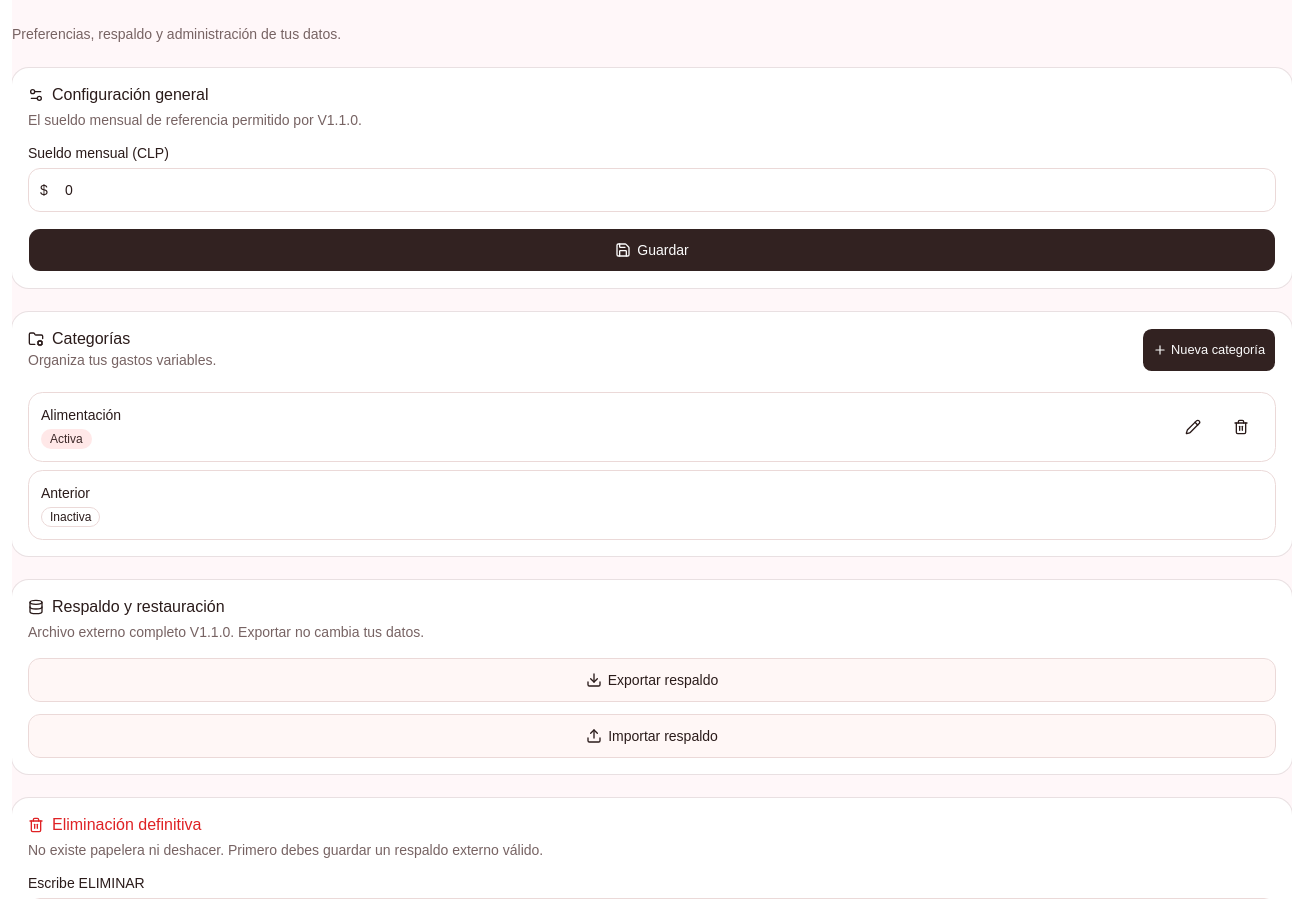
it: SettingsPage › keeps zero visible and normalizes an empty salary safely
Clear the field labelled "Sueldo mensual (CLP)" at (652, 190), box [28,168,1276,212]
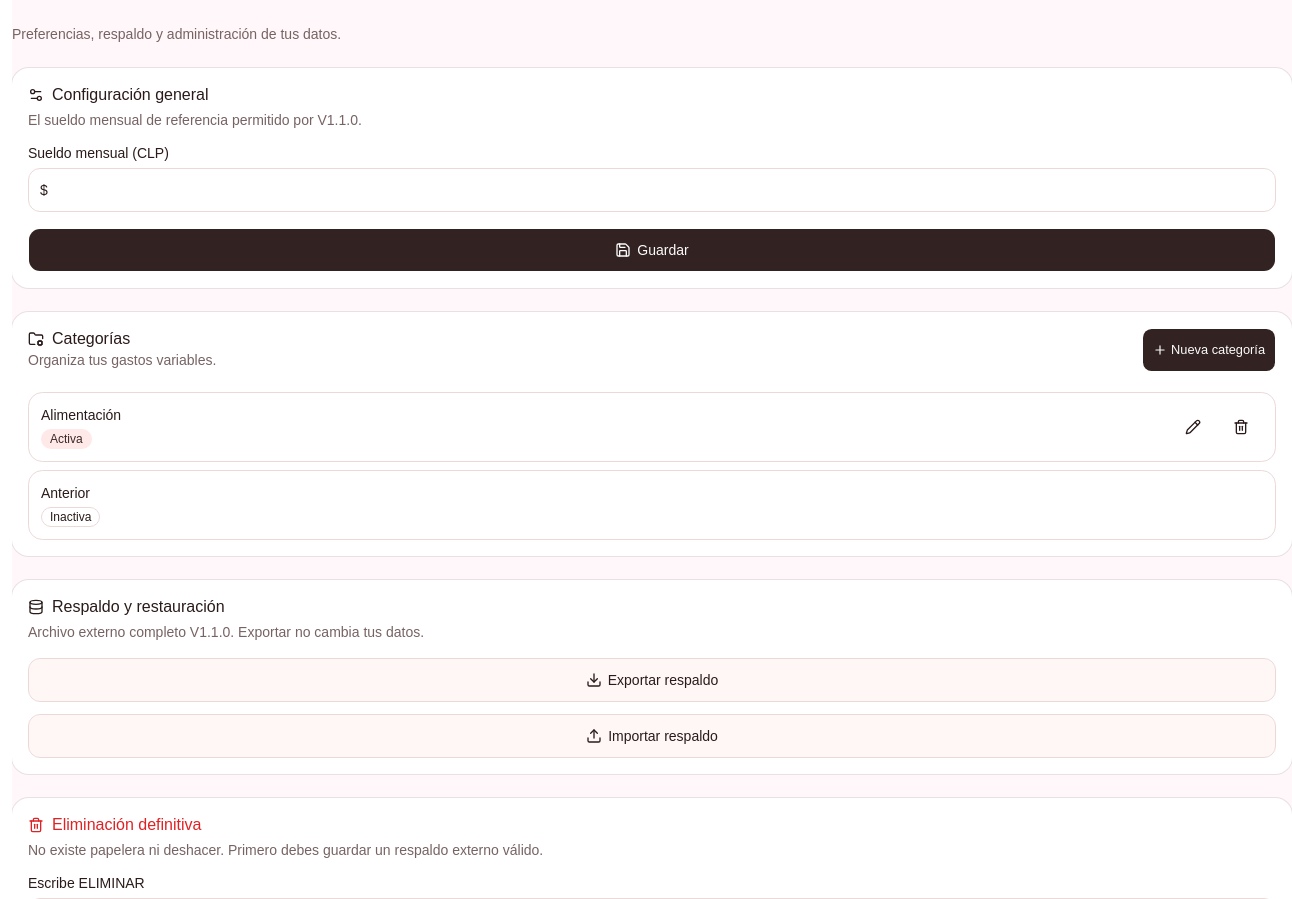
Click the button "Guardar" at (652, 250), box [28,228,1276,272]
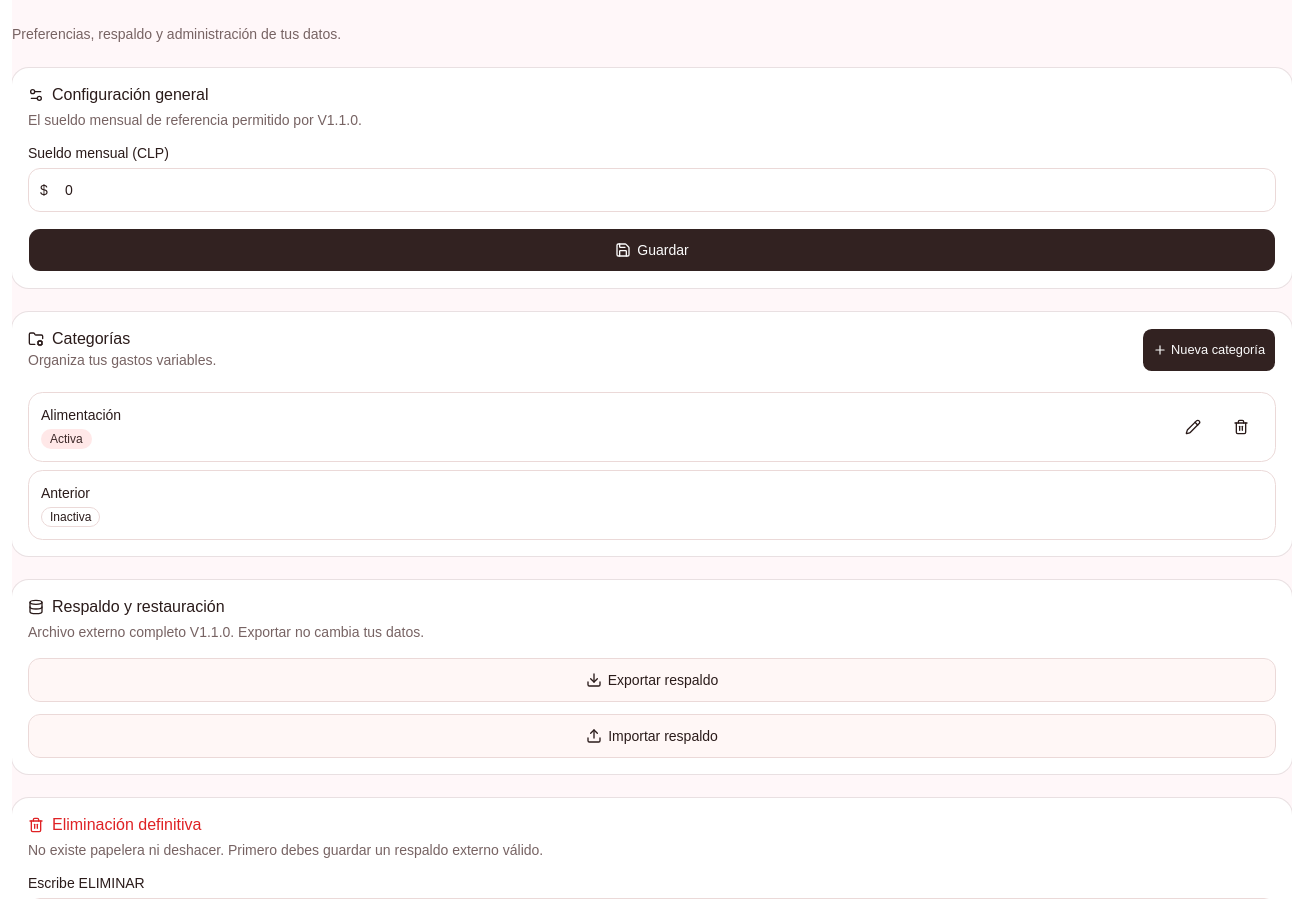
Expected: the field labelled "Sueldo mensual (CLP)" holds "0", [28,168,1276,212]
